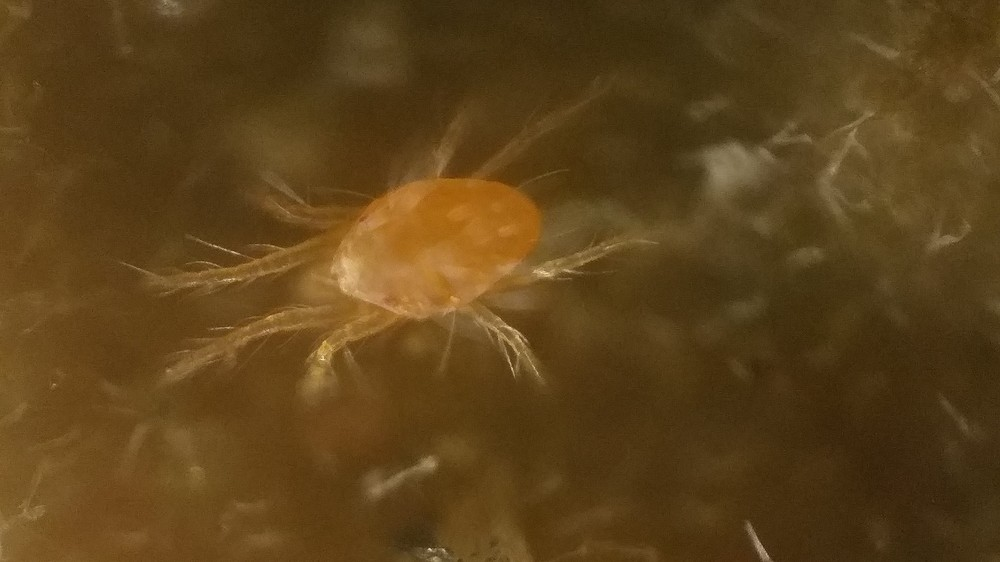Aracnido Rojo: (156, 105, 712, 435)
